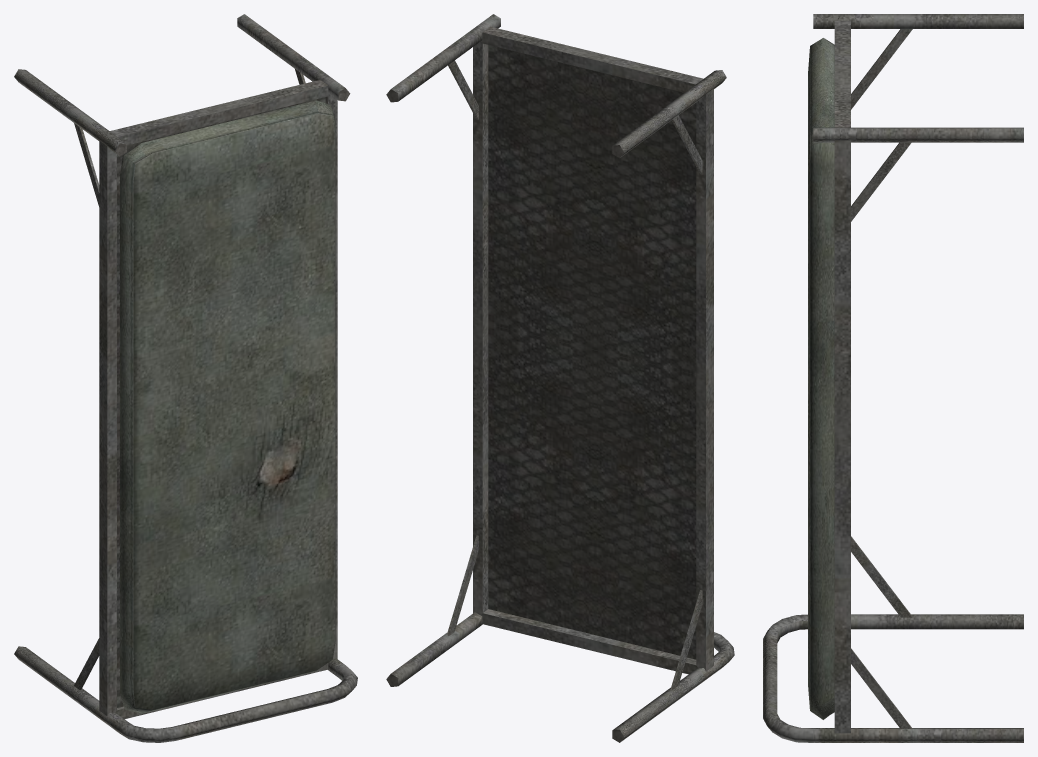
Rendered from furniture_bed_bunker1.glb.
The picture shows the model from 3 angles, left to right: view 1: azimuth 30°, elevation 25°; view 2: azimuth 150°, elevation 25°; view 3: azimuth 270°, elevation 25°; orthographic projection. The views are drawn at different scales.
Bounding box in the file's own units: 36.4 × 87.37 × 33.63.
2 materials, 2 textured.
